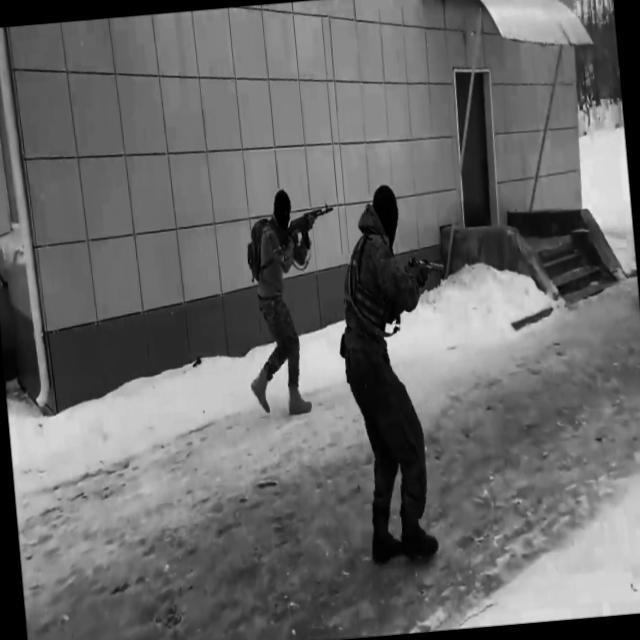gun: (276, 202, 336, 254), (404, 252, 446, 280)
person with a gun: (326, 180, 470, 566), (234, 185, 351, 418)
